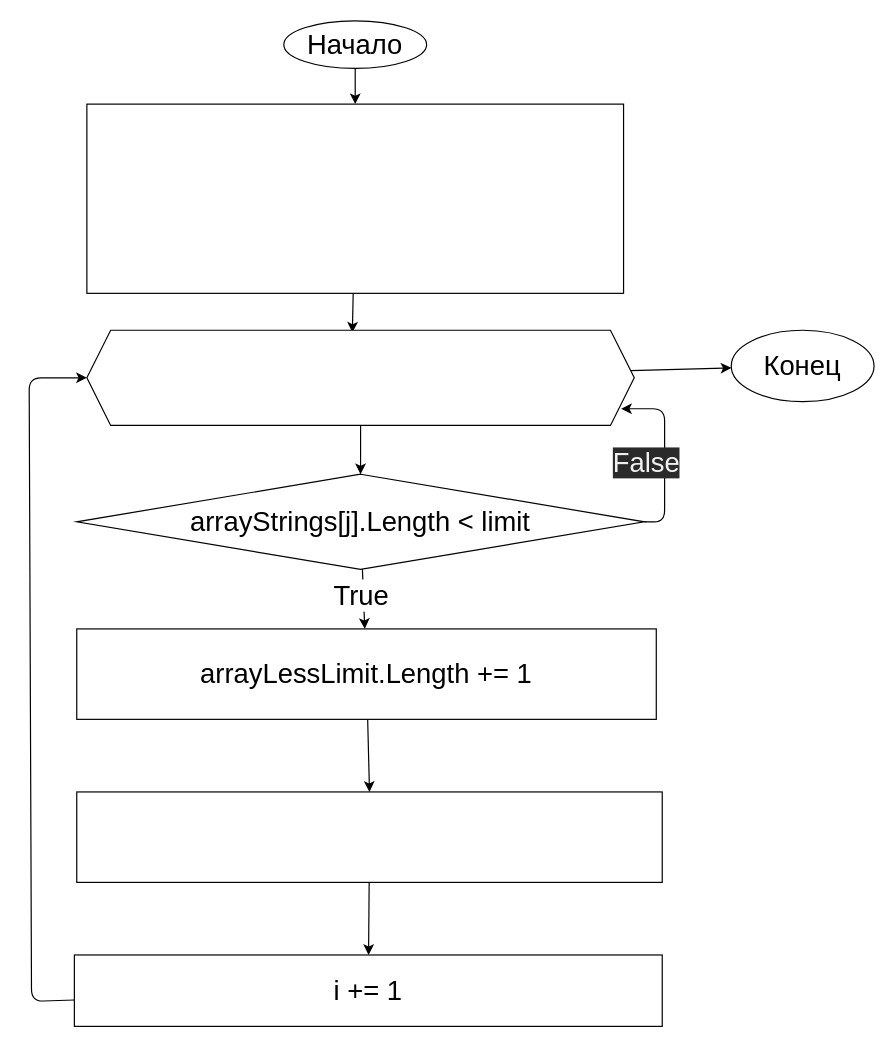
Image size: 895x1047. Some labels were removed from this diagram. Here are the shapes that lost their labels. From the top down, the centre of each, then its label:
At [355,198]: "arrayStrings = new array() arrayLessLimit = new empty array() i = 0 limit = 3".
At [360,377]: "j = 0, arrayStrings.Length -1, 1".
At [369,836]: "arrayLessLimit[i] = arrayStrings[j]".
